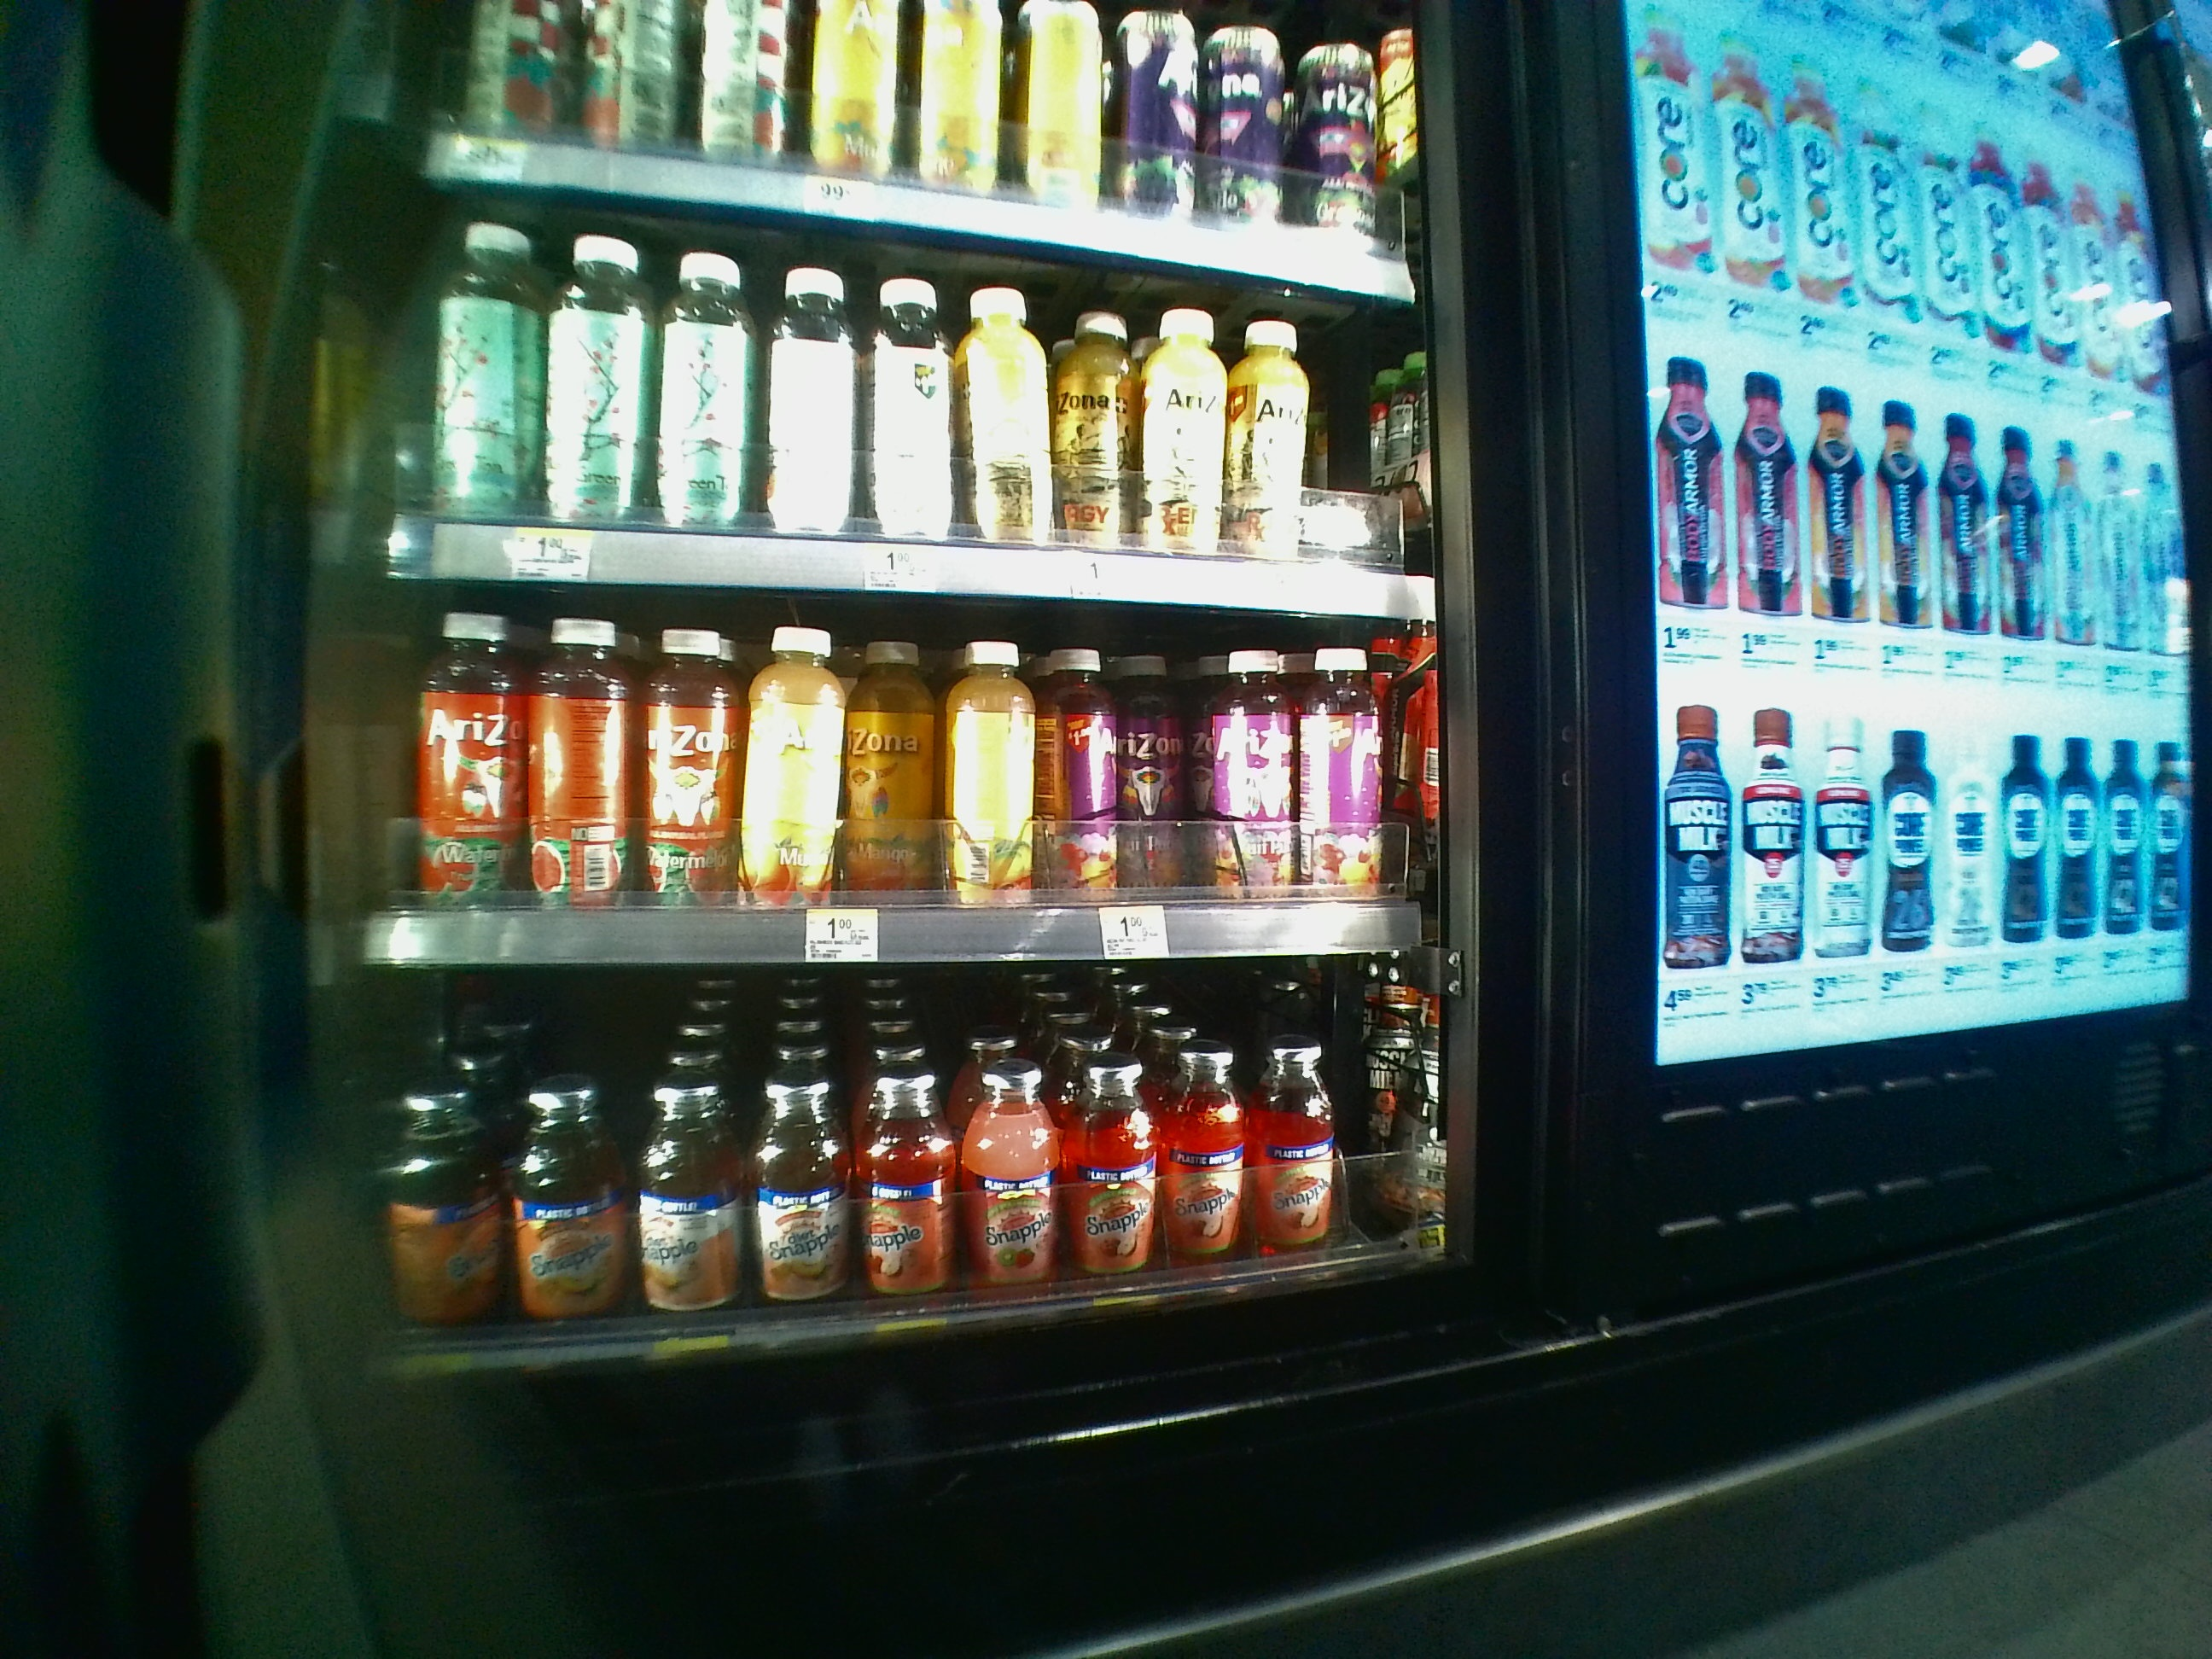shelf: (364, 974, 1446, 1351), (366, 580, 1428, 957)
